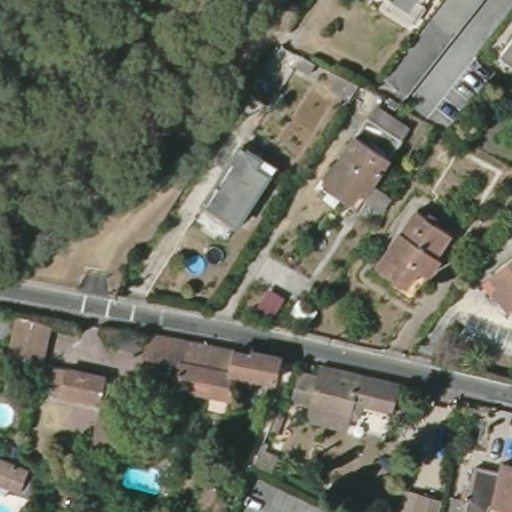pool: (120, 463, 172, 498), (185, 253, 214, 279), (1, 401, 18, 432)
